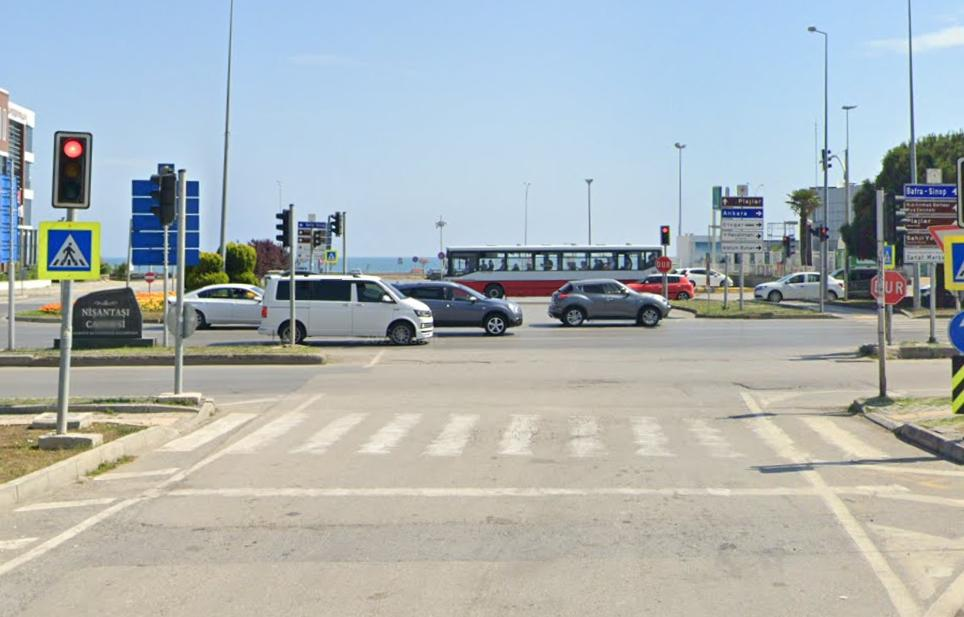redlight: (52, 130, 90, 210), (660, 224, 671, 246)
stop: (872, 273, 906, 306), (655, 257, 671, 273)
